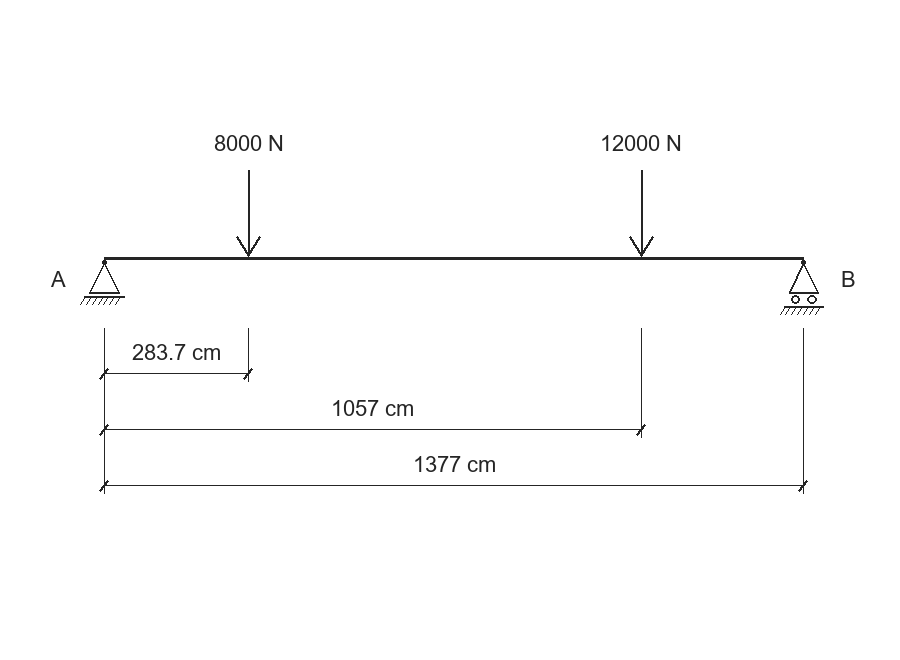pin_support: (80, 260, 125, 305)
point_load: (236, 170, 261, 257), (629, 170, 654, 257)
roller_support: (780, 260, 824, 315)
